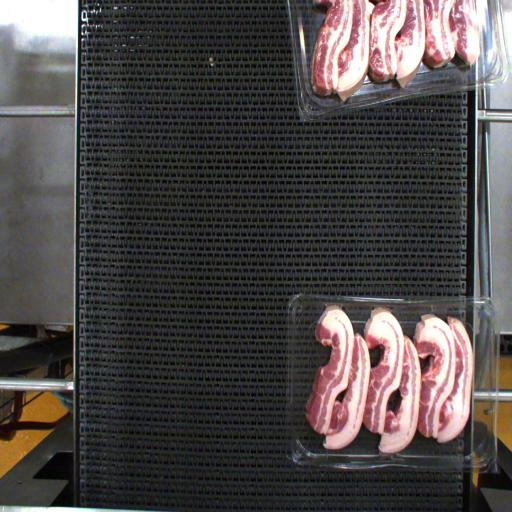packaging-error: (373, 297, 401, 319), (325, 290, 350, 312)
